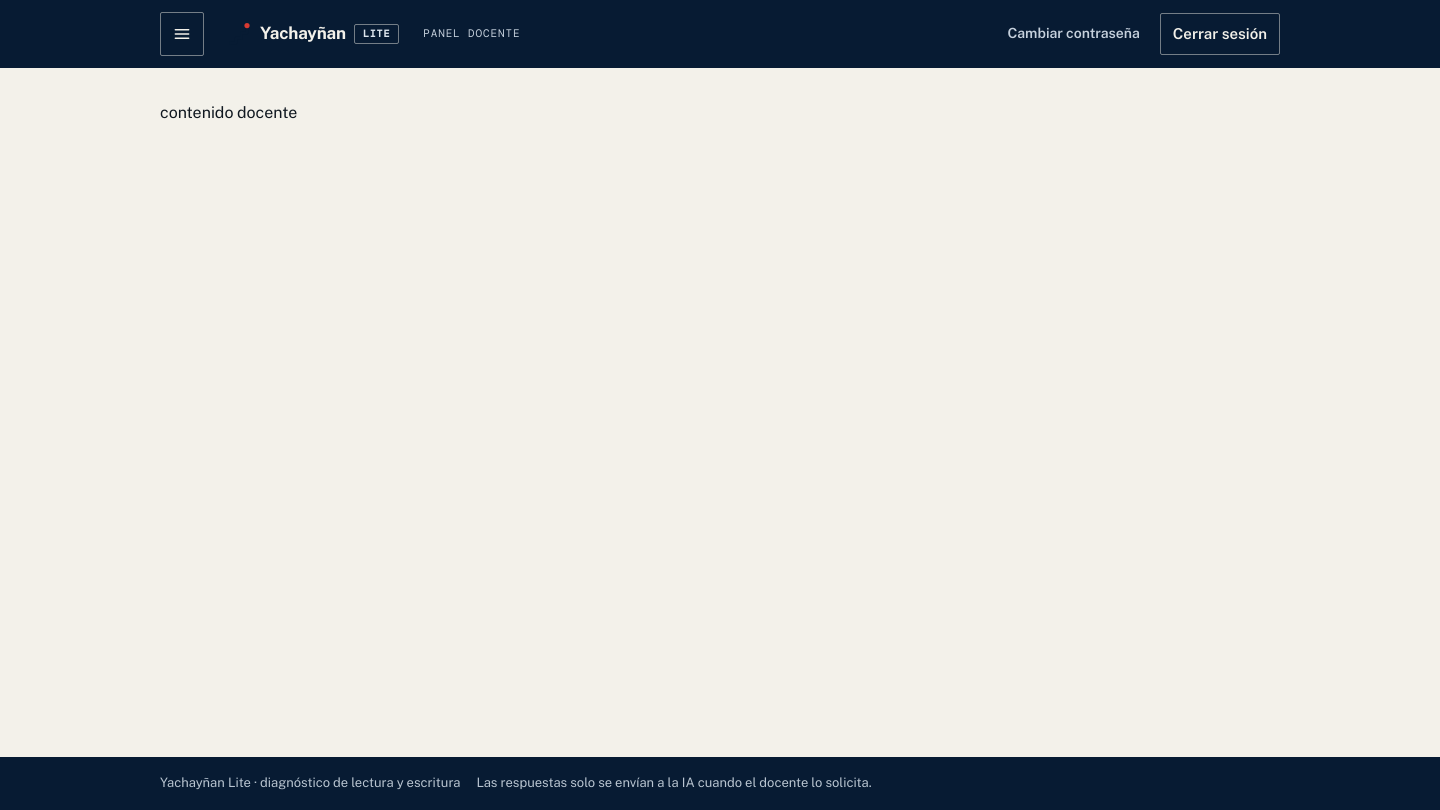
Scenario: TeacherLayout › enlaza cada pantalla docente implementada, incluidas las del diagnóstico
Click the button named "Abrir menú docente": click(182, 34) [160, 12, 204, 56]
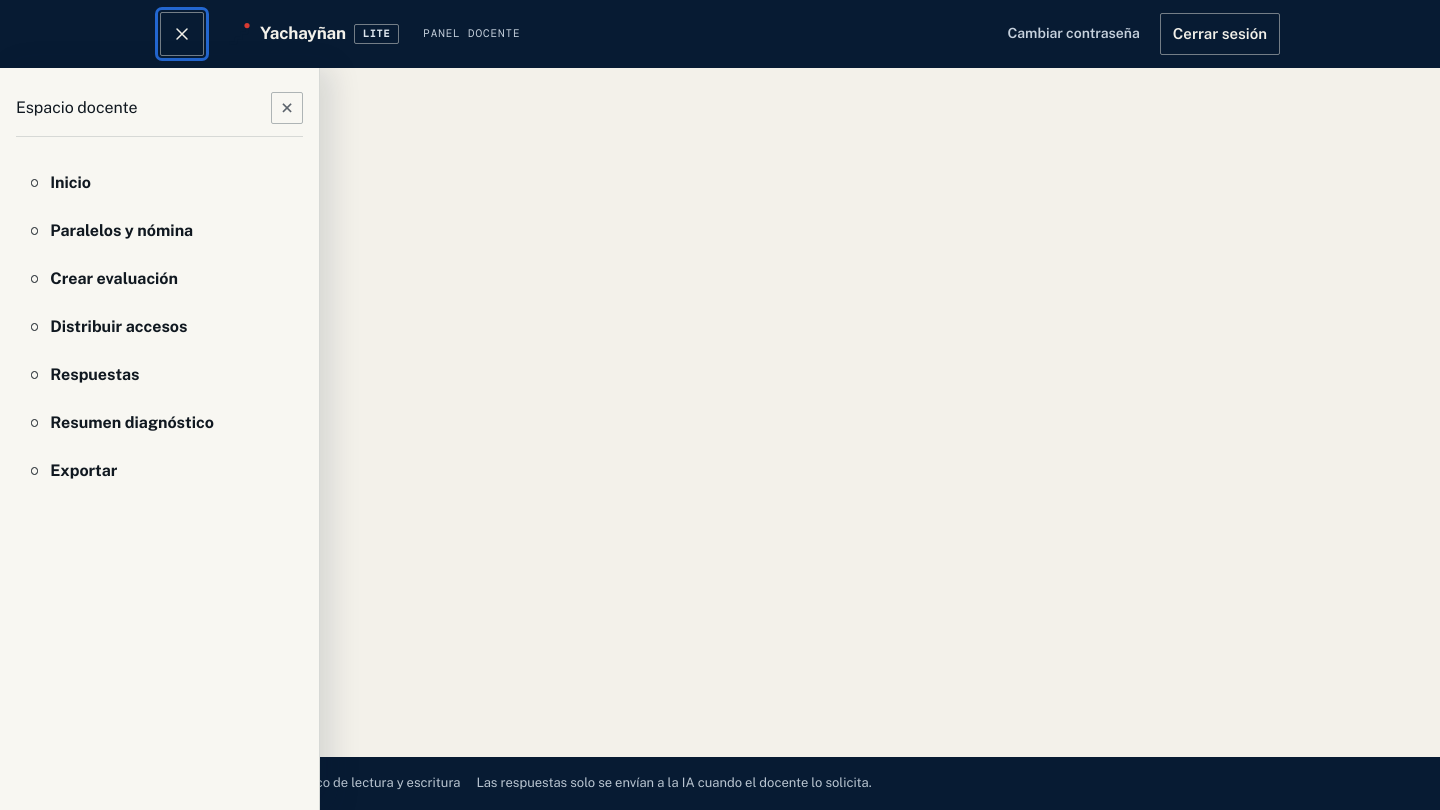
Result: the navigation bar named "Navegación docente" is shown at [31, 173, 214, 480]
